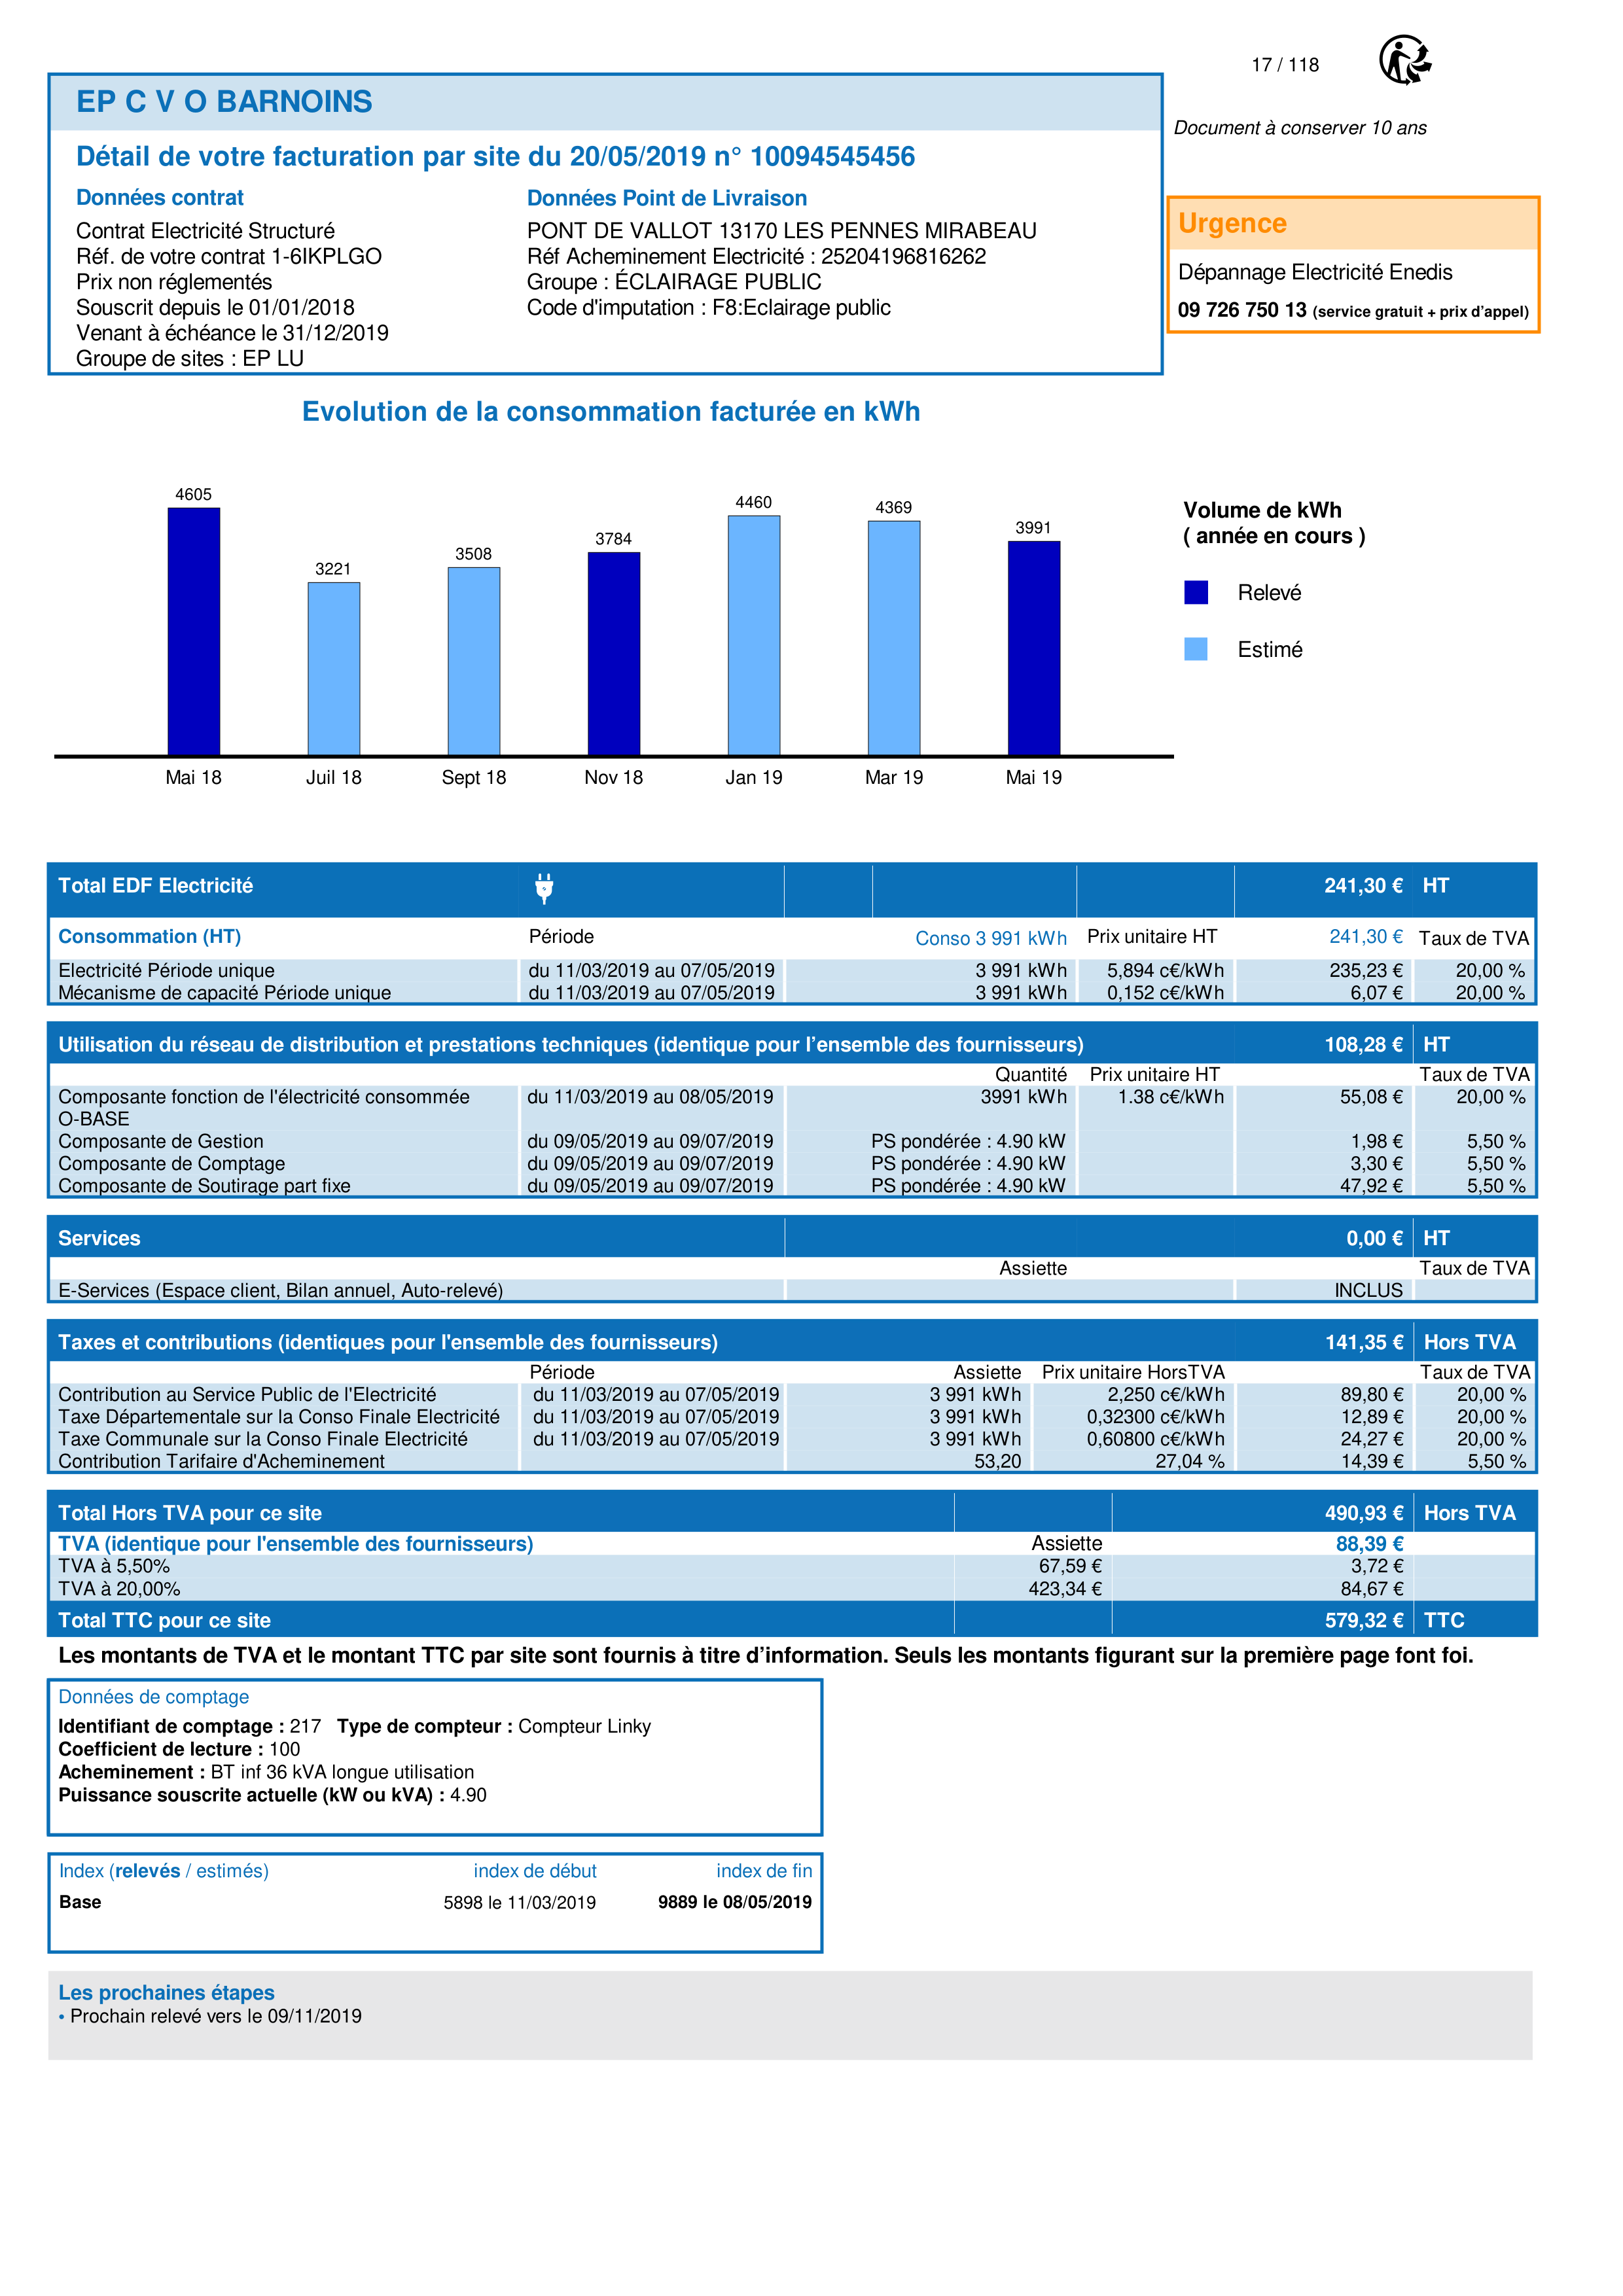area: (48, 1852, 827, 1952)
type_indicator: (50, 1851, 283, 1888)
